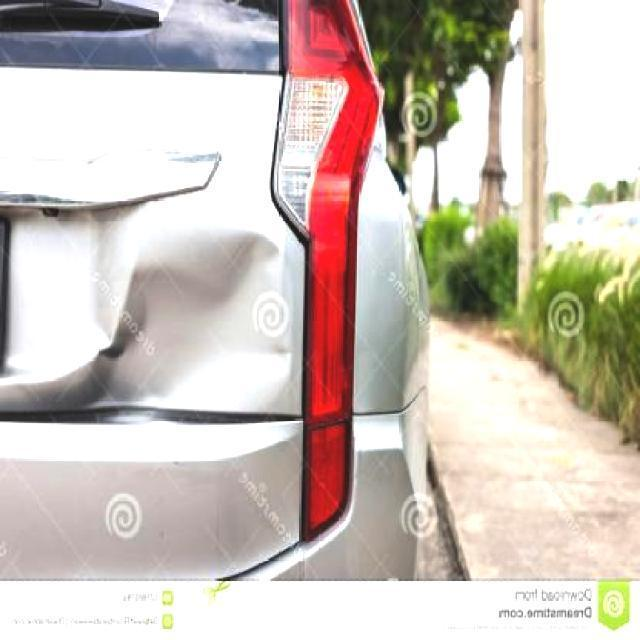minor: (0, 238, 292, 420)
